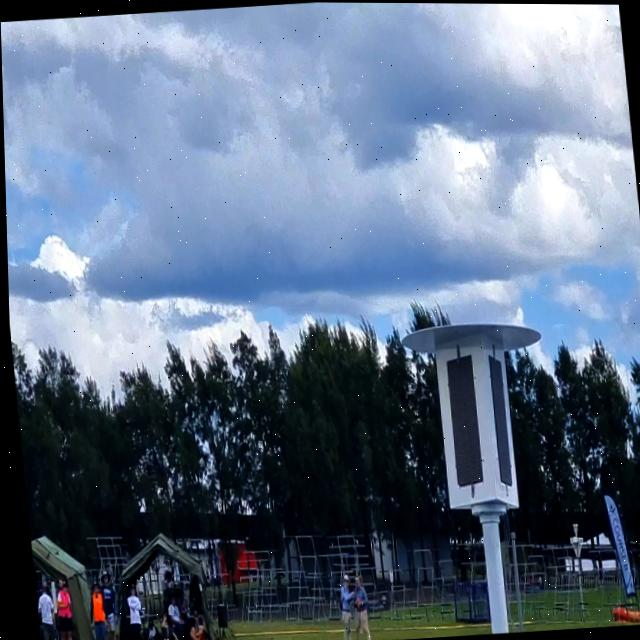led: (434, 343, 487, 489)
